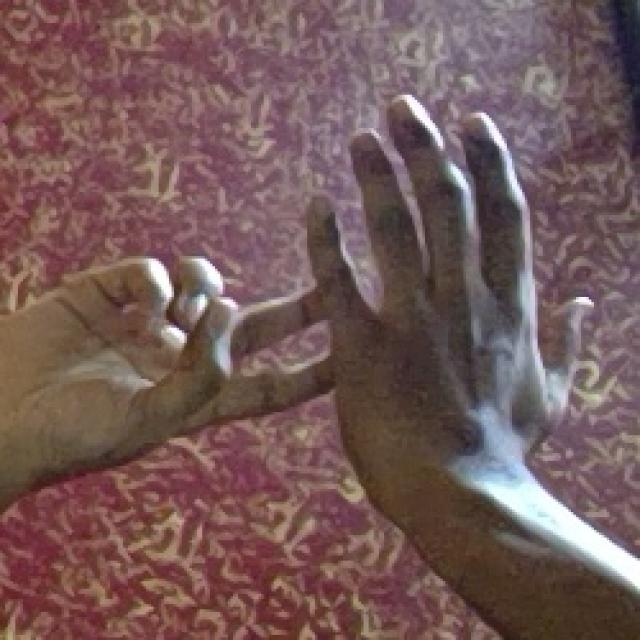Alphabet-N: (0, 82, 573, 518)
